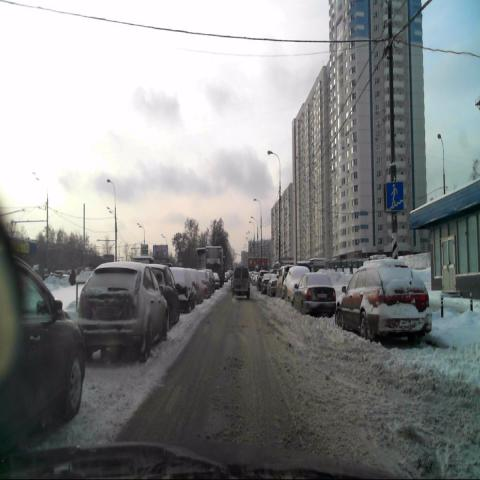6_6: (385, 182, 405, 212)
